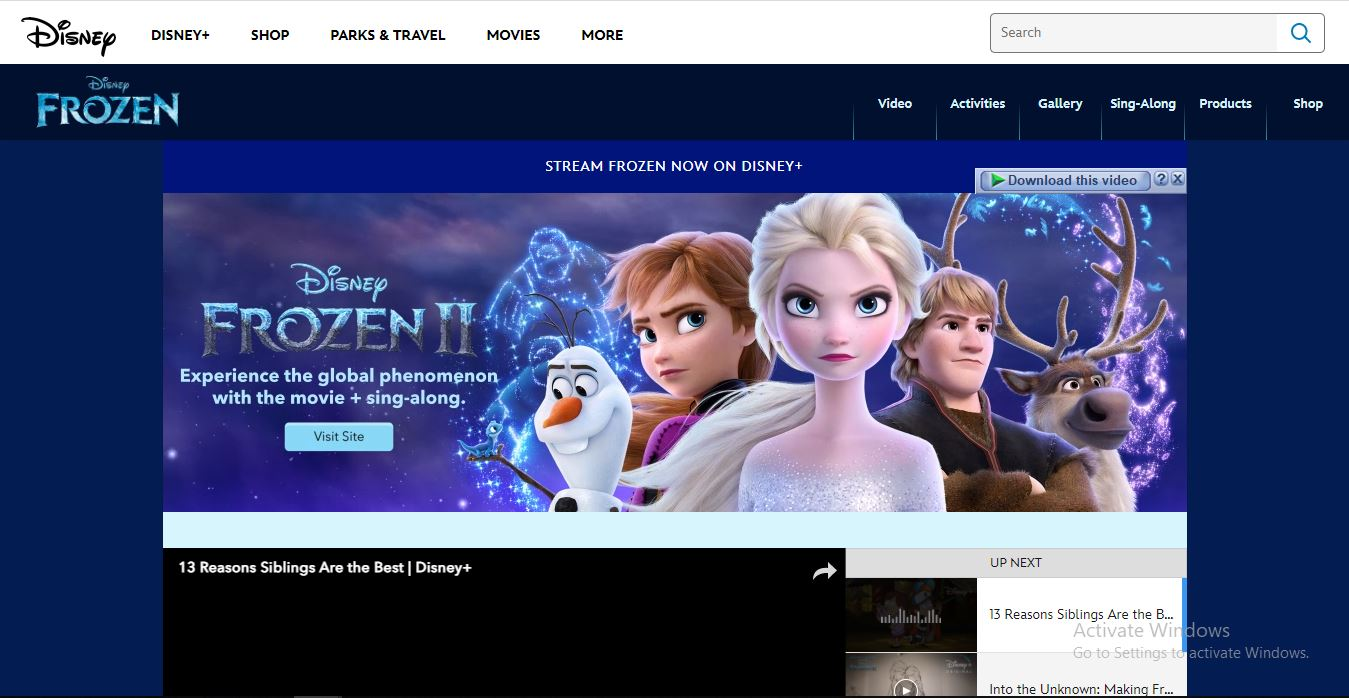Image: (167, 190, 1186, 512)
Menu Bar: (137, 1, 651, 62), (848, 76, 1335, 134)
Side Bar: (842, 548, 1188, 698)
Text Field: (991, 11, 1329, 59)
